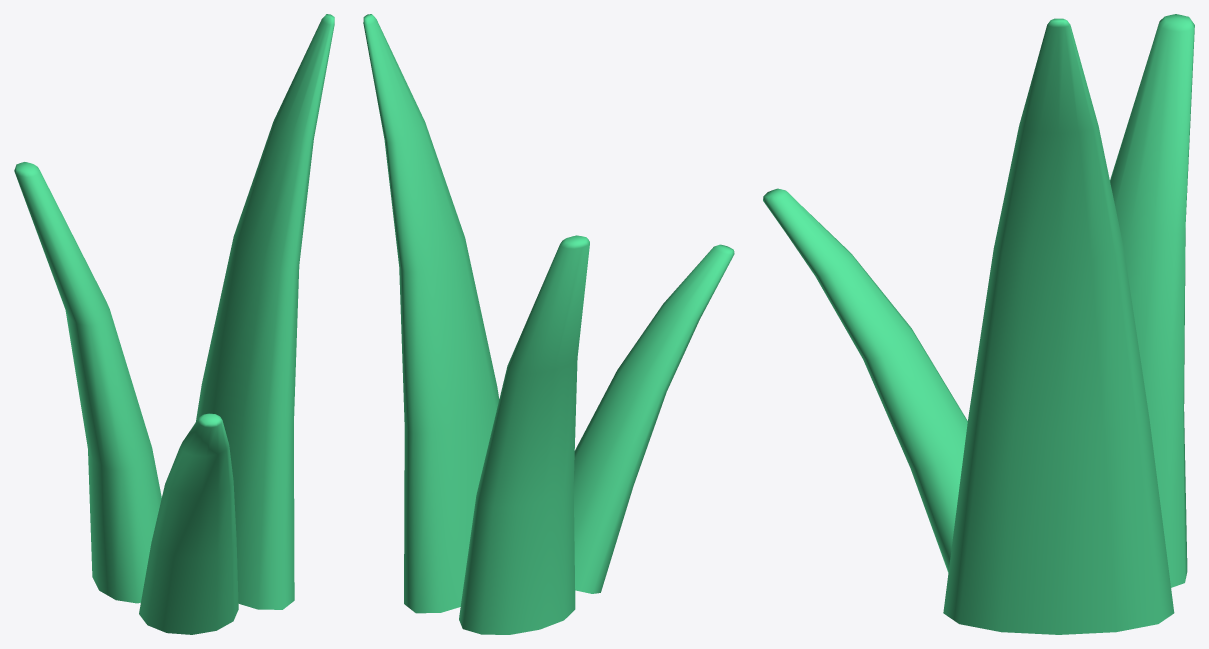
Rendered from Grass.fbx.
The picture shows the model from 3 angles, left to right: view 1: azimuth 30°, elevation 25°; view 2: azimuth 150°, elevation 25°; view 3: azimuth 270°, elevation 25°; orthographic projection. The views are drawn at different scales.
Visible parts, largest first — view 1: Circle.032; view 2: Circle.032; view 3: Circle.032.
Boxes of the visible parts, x1=… form: Circle.032: x1=14, y1=14, x2=334, y2=634; Circle.032: x1=363, y1=14, x2=734, y2=634; Circle.032: x1=763, y1=14, x2=1194, y2=634.
Size of the model in its own units: 70.92 by 137 by 81.31.
